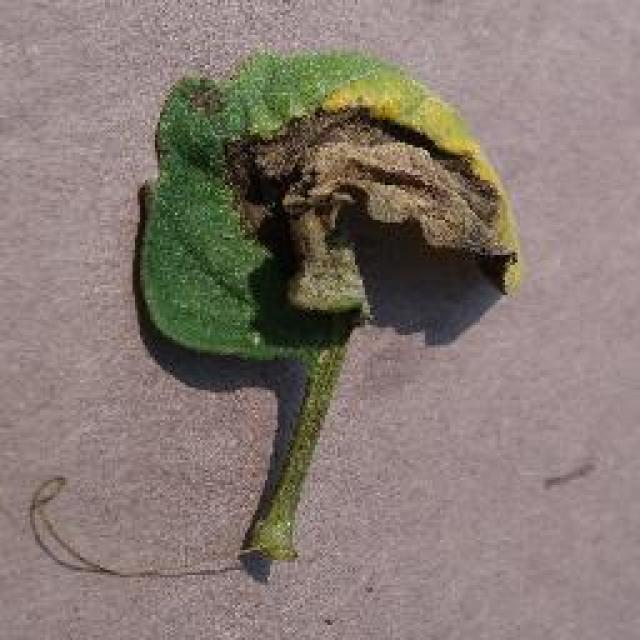Tomato Late Blight: (222, 40, 545, 337)
